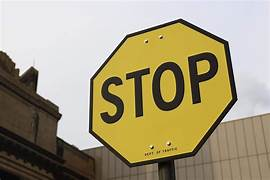stop: (88, 19, 236, 166)
